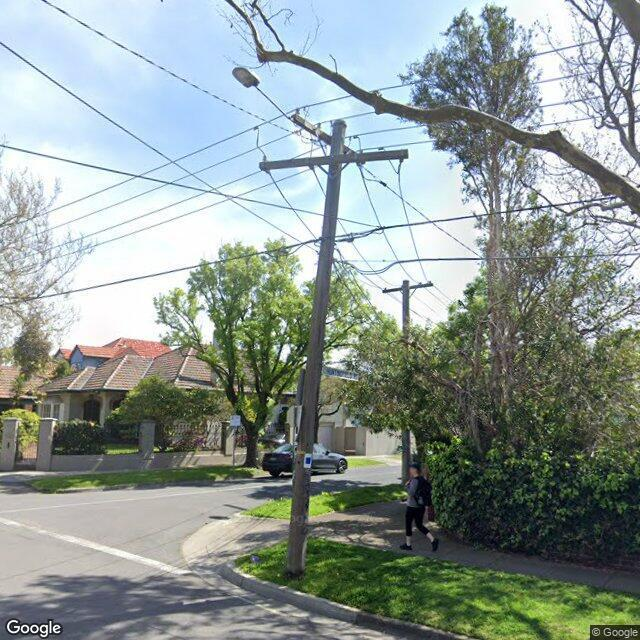crossarm: (291, 114, 362, 166), (259, 149, 408, 171), (382, 283, 433, 293)
streetlight: (232, 66, 291, 120)
timber-pole: (286, 118, 346, 580), (402, 280, 410, 484)
